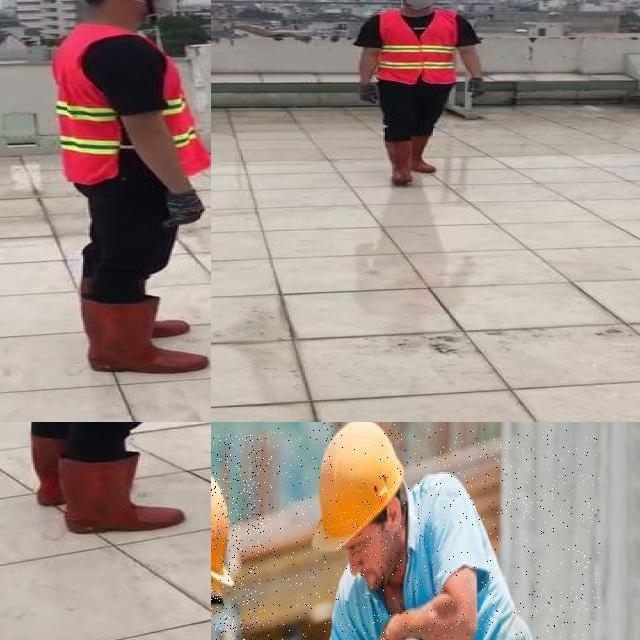No_Ear-Protection: (385, 494, 407, 536)
boots: (83, 294, 211, 383), (60, 454, 182, 534), (26, 431, 126, 510), (380, 138, 417, 186), (414, 139, 438, 171)
face_mask: (131, 0, 186, 17), (400, 0, 441, 9)
hand_glove: (166, 186, 211, 233), (463, 78, 488, 100), (360, 82, 380, 103)
head_helmet: (299, 422, 415, 559), (211, 453, 258, 592)
person: (264, 427, 600, 640), (32, 0, 211, 386), (349, 0, 493, 192), (0, 422, 211, 542)
vest: (53, 19, 211, 185), (378, 10, 456, 84)
